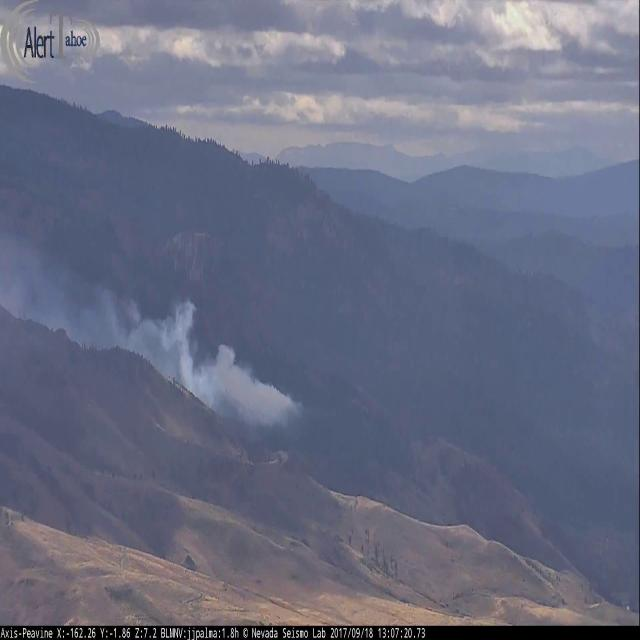smoke: (0, 208, 316, 437)
